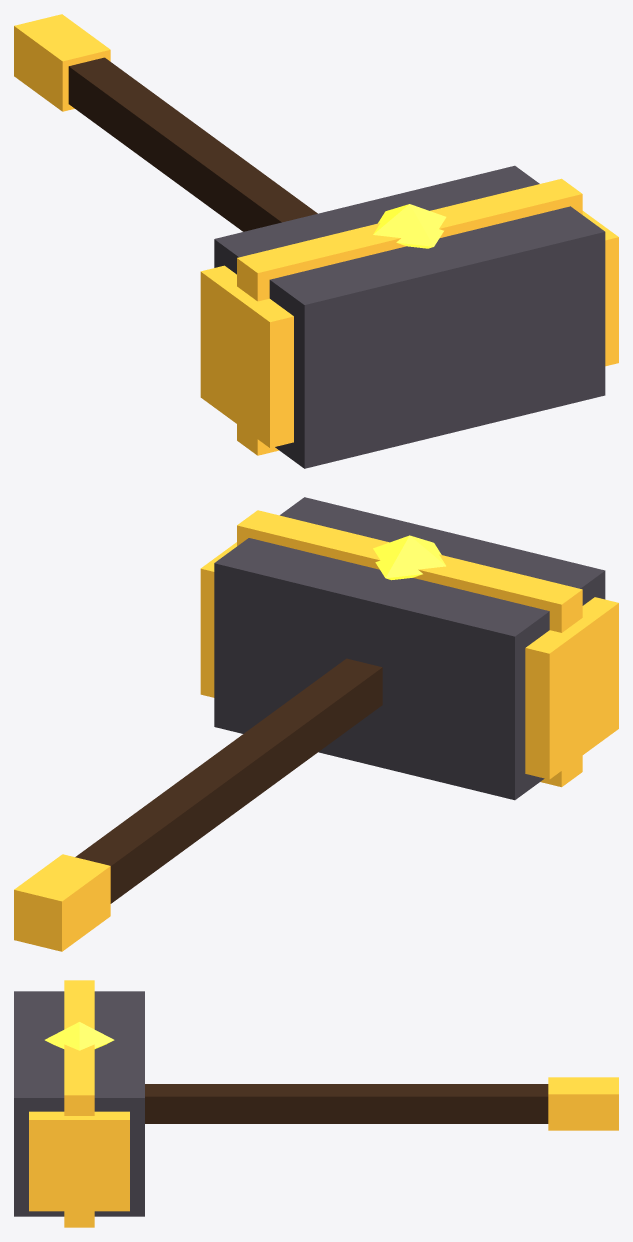
File: w_hammer.glb
3 renders of one model, top to bottom at view 1: azimuth 30°, elevation 25°; view 2: azimuth 150°, elevation 25°; view 3: azimuth 270°, elevation 25°, orthographic. The views are drawn at different scales.
Visible parts, largest first — view 1: w_hammer_head, w_hammer_gold, w_haft, w_hammer_rune; view 2: w_hammer_head, w_hammer_gold, w_haft, w_hammer_rune; view 3: w_hammer_gold, w_haft, w_hammer_head, w_hammer_rune.
Boxes of the visible parts, left/top/right/bottom form: w_hammer_head: left=214, top=165, right=605, bottom=468; w_hammer_gold: left=14, top=14, right=618, bottom=455; w_haft: left=68, top=57, right=317, bottom=231; w_hammer_rune: left=373, top=204, right=446, bottom=248; w_hammer_head: left=214, top=497, right=605, bottom=800; w_hammer_gold: left=14, top=510, right=618, bottom=951; w_haft: left=75, top=658, right=382, bottom=903; w_hammer_rune: left=373, top=535, right=445, bottom=580; w_hammer_gold: left=29, top=980, right=618, bottom=1227; w_haft: left=145, top=1084, right=548, bottom=1123; w_hammer_head: left=14, top=991, right=144, bottom=1216; w_hammer_rune: left=45, top=1022, right=114, bottom=1050.
Size of the model in its own units: 0.58 by 0.325 by 1.2.
